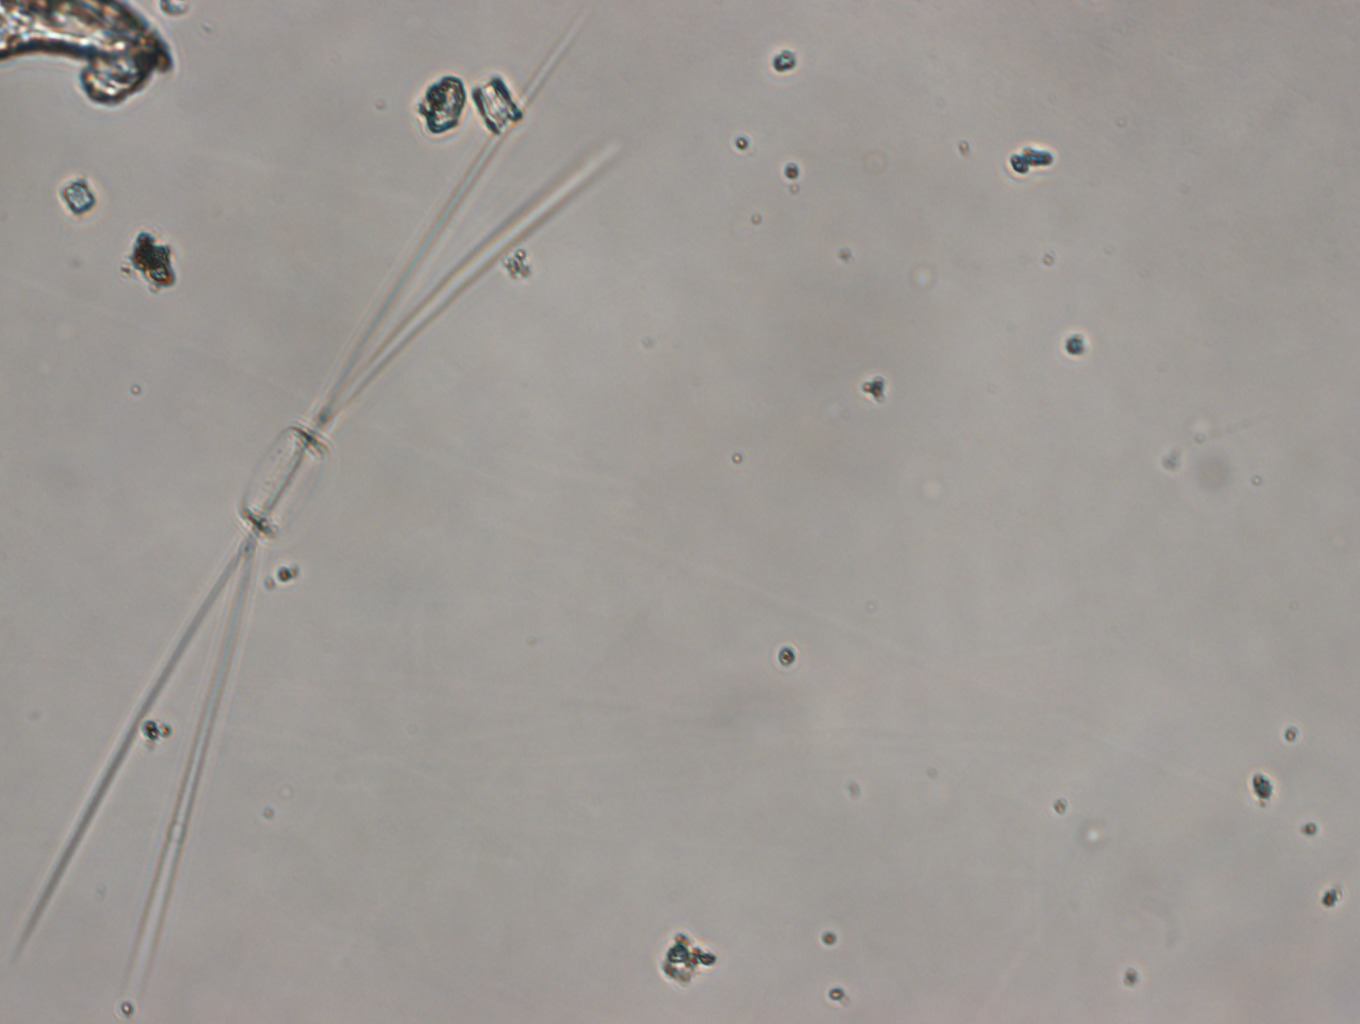chaetoceros: (25, 17, 583, 1009)
